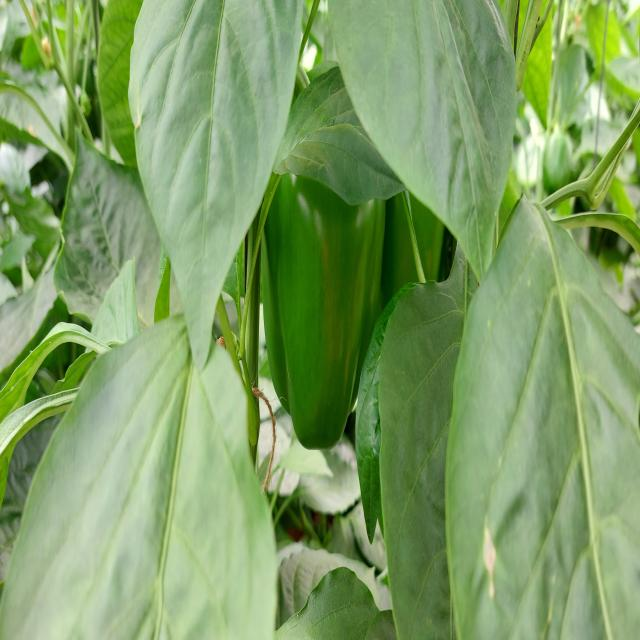Green--Not-ready-to-harvest: (254, 135, 387, 461)
